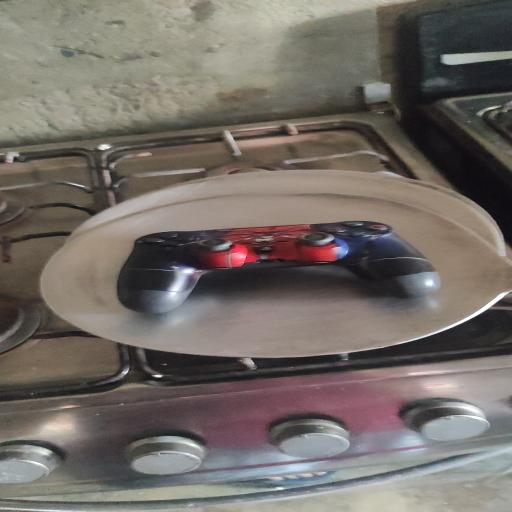ControlPlay4: (115, 219, 441, 315)
